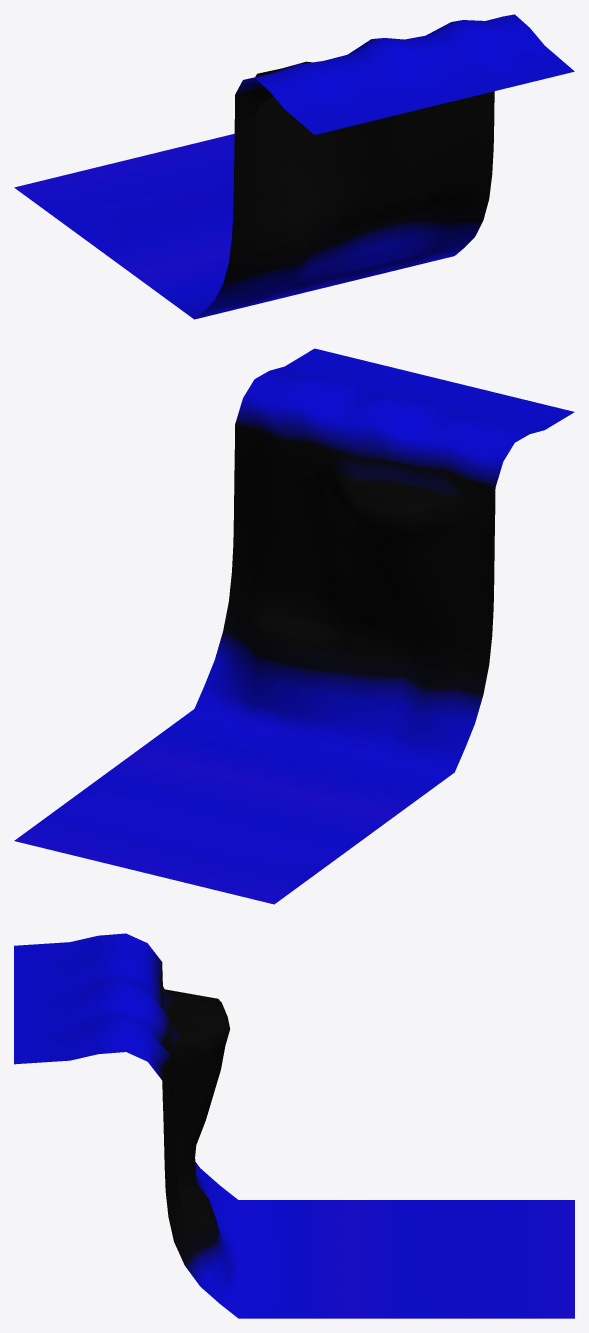
The model's file is WaterFallCliff01B 2M.fbx.
3 views of the same model, one above another, from view 1: azimuth 30°, elevation 25°; view 2: azimuth 150°, elevation 25°; view 3: azimuth 270°, elevation 25° (orthographic). The views are drawn at different scales.
Visible parts, largest first — view 1: WaterFallCliff01B 2M; view 2: WaterFallCliff01B 2M; view 3: WaterFallCliff01B 2M.
Part boxes in pixels (x1,y1,x2,y2): WaterFallCliff01B 2M: [14, 14, 574, 319]; WaterFallCliff01B 2M: [14, 348, 574, 904]; WaterFallCliff01B 2M: [14, 933, 574, 1318].
Bounding box in the file's own units: 1 × 1.08 × 2.
